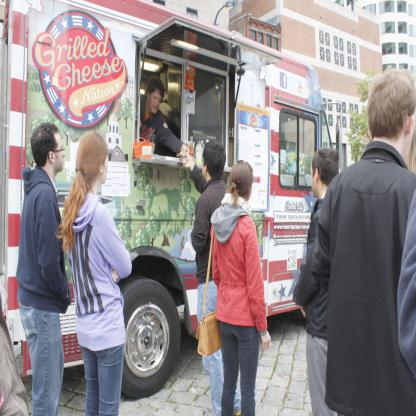Truck: (6, 13, 386, 390)
